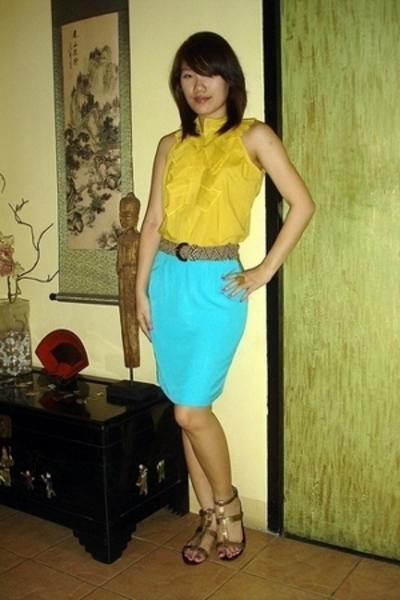shirt: (163, 111, 264, 246)
shoe: (168, 496, 246, 578)
skirt: (149, 252, 247, 406)
